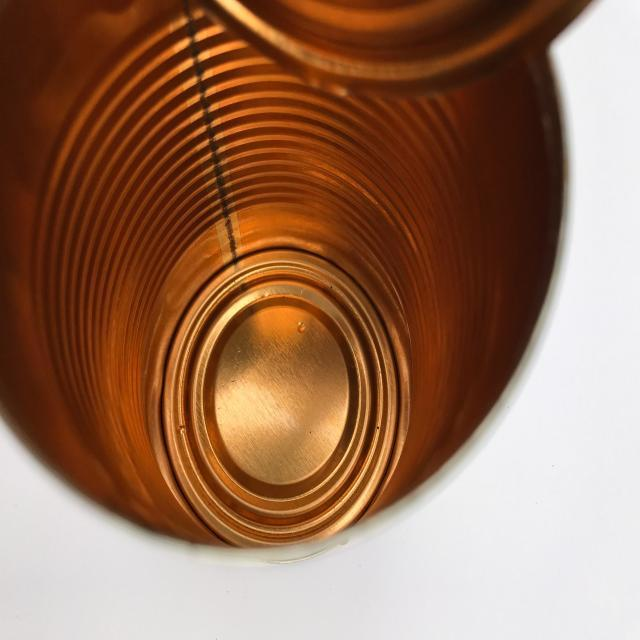metal: (0, 1, 602, 579)
